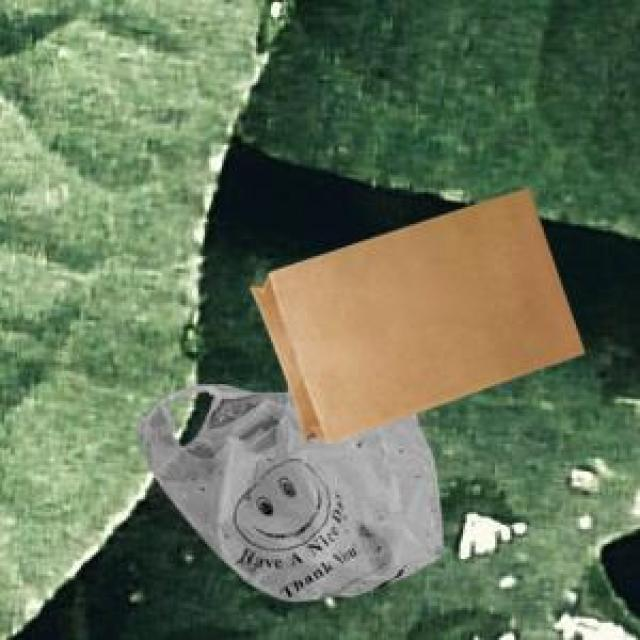paper: (248, 186, 580, 440)
